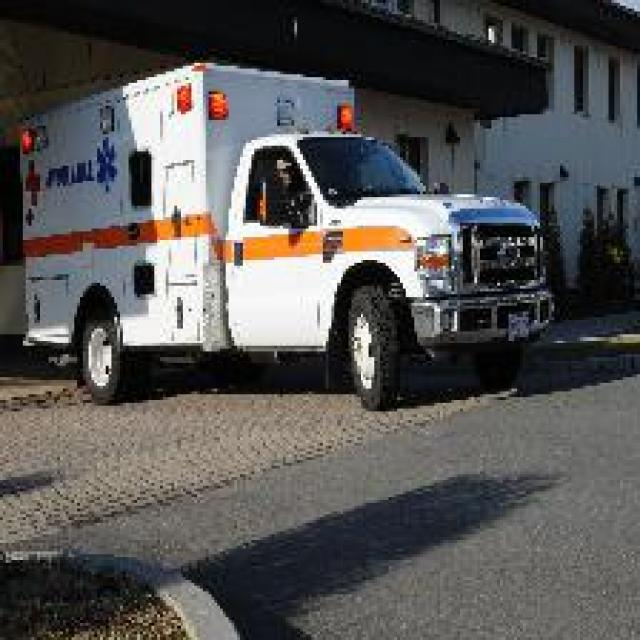Ambulance: (14, 57, 554, 412)
